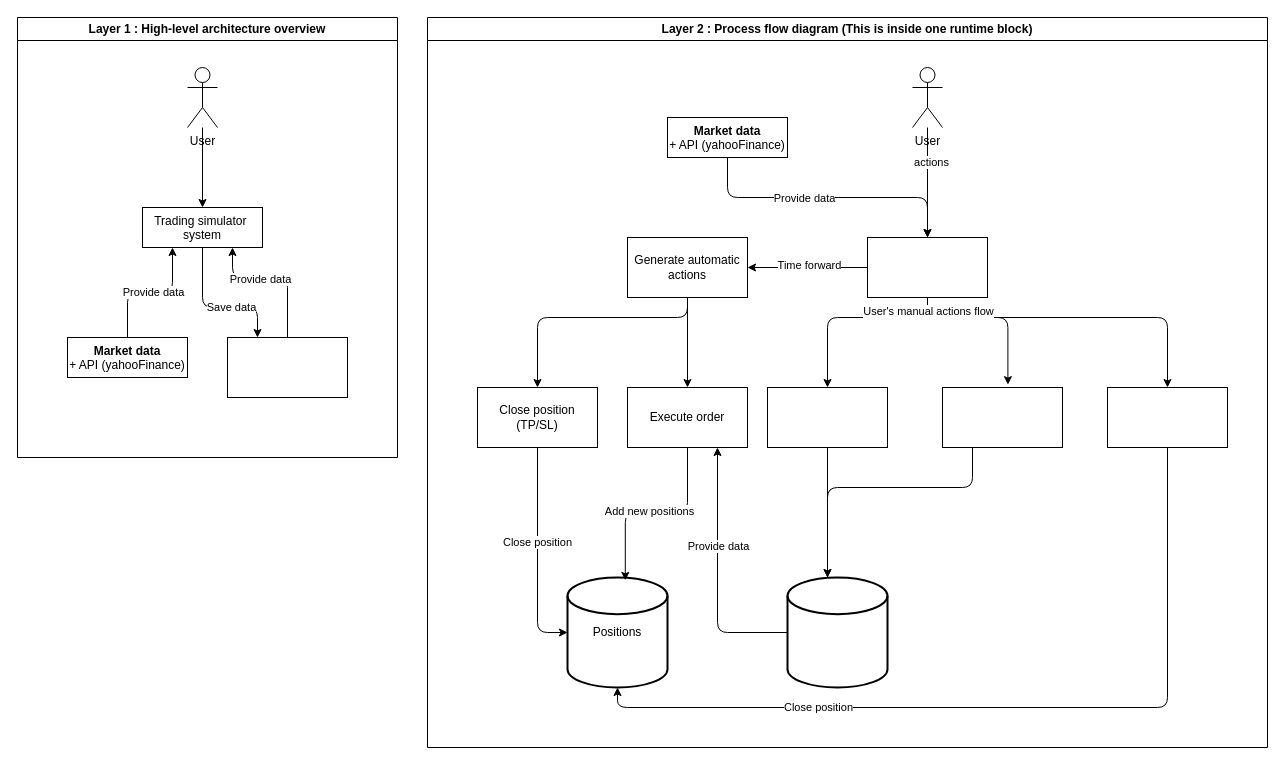
This 1285x765 diagram has some shape labels left out. Each missing label, with the centre of its shape:
"Cancel order" belongs at [1002,417].
"Close position manual" belongs at [1167,417].
"DataBase +orderbook +positions" belongs at [287,367].
"Open order" belongs at [827,417].
"Orderbook" belongs at [837,632].
"Run simulation" belongs at [927,267].
